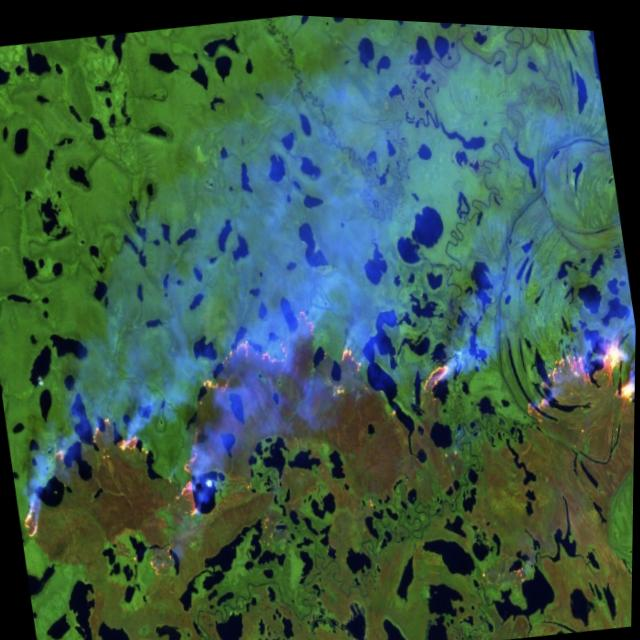fire: (0, 239, 637, 620)
